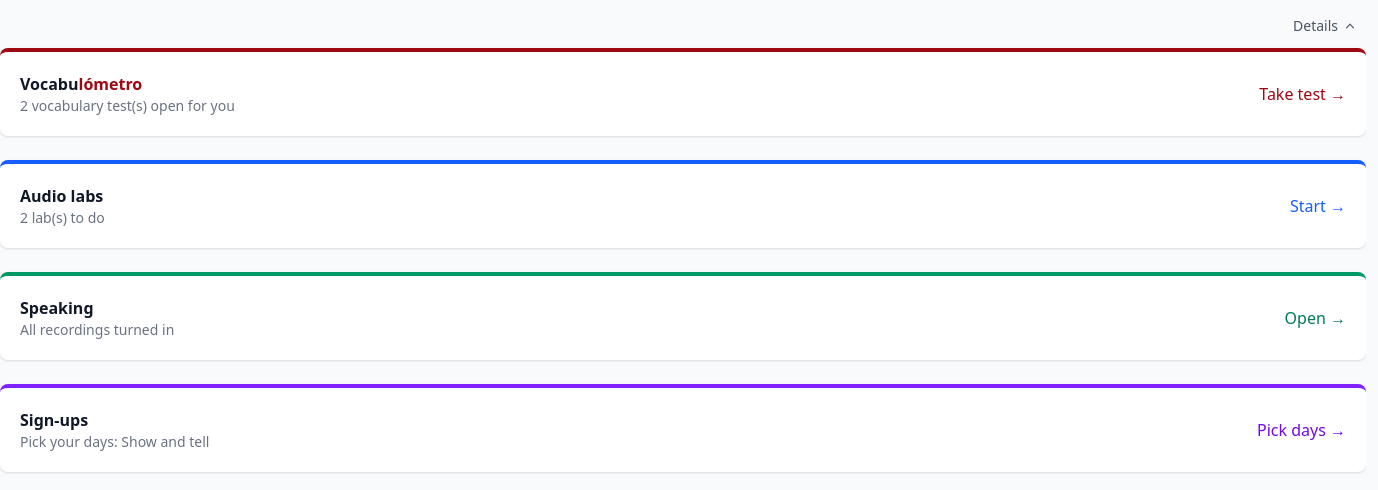
Test: folding the notices › keeps the focus on the button both ways, and unfolds back to the full cards
Click the button "Details" at (1326, 26), box [1285,12,1366,40]
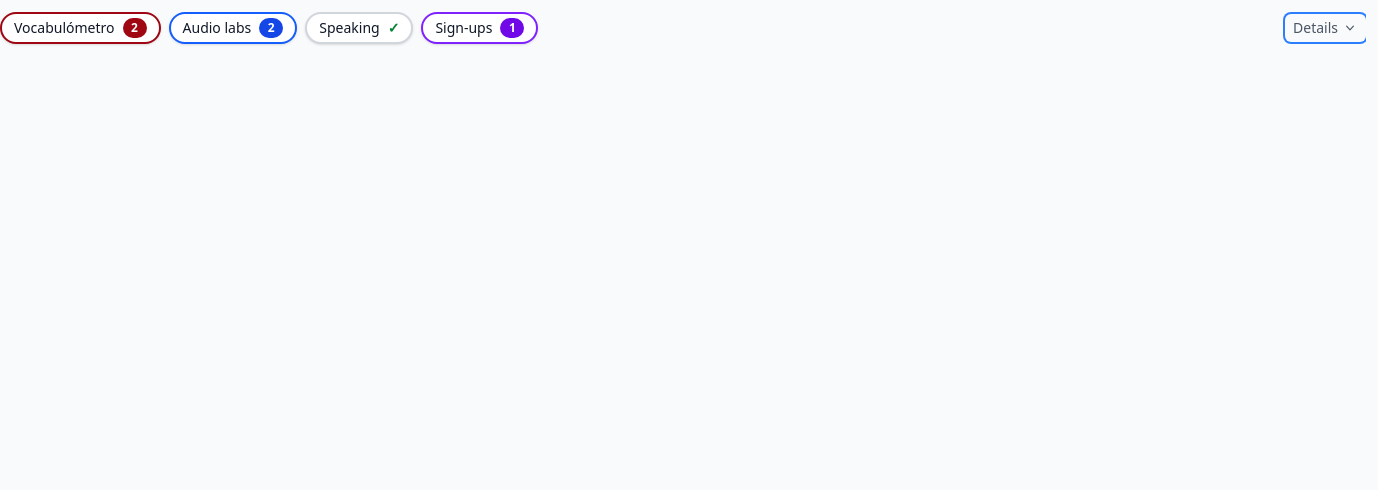
Press Enter
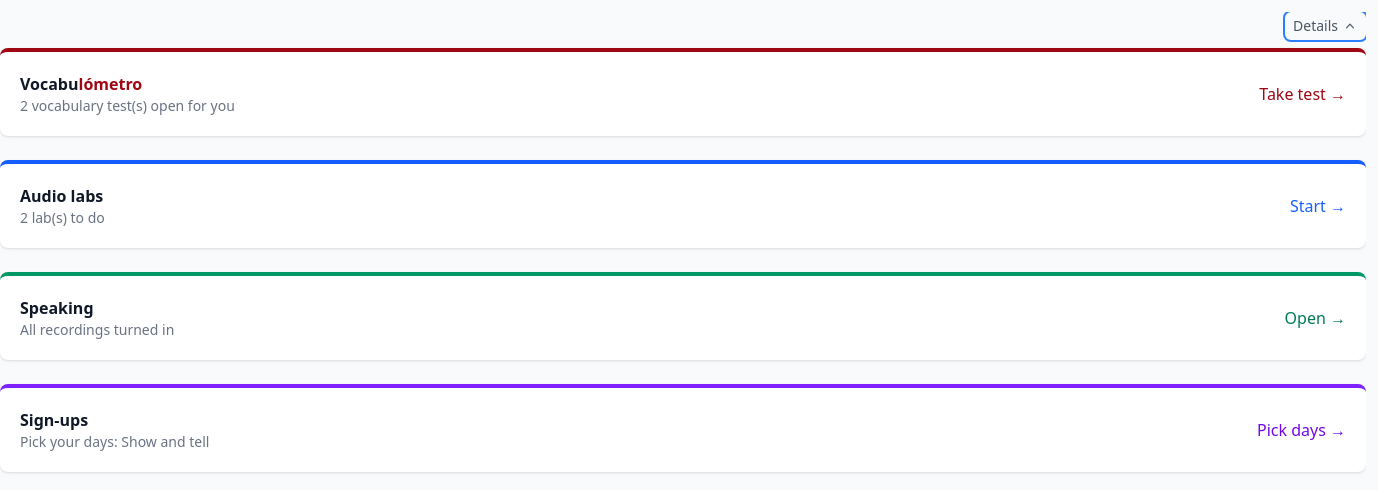
Expected: the heading "Audio labs" is shown, [20,184,105,208]
Now the button "Details" is expanded, box [1285,12,1366,40]
